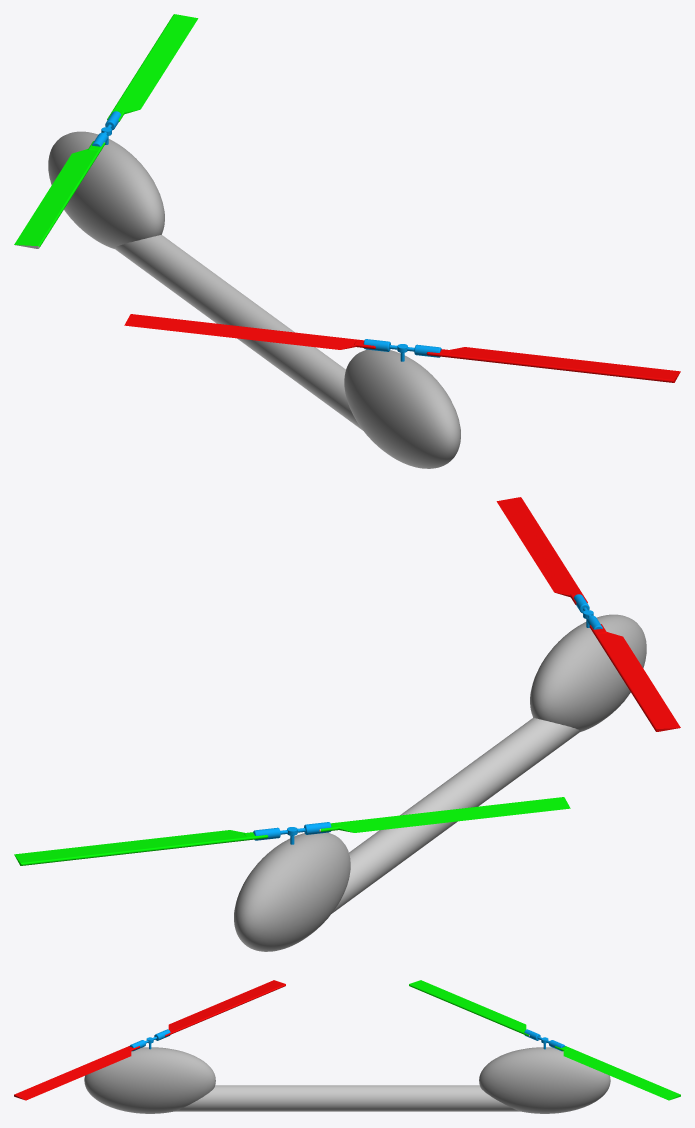
Rendered from chinook.gltf.
The picture shows the model from 3 angles, top to bottom: view 1: azimuth 30°, elevation 25°; view 2: azimuth 150°, elevation 25°; view 3: azimuth 270°, elevation 25°; orthographic projection. The views are drawn at different scales.
Parts seen in each view (by area): view 1: Rear, Boom, Front, Blade_CW_2, Blade_CW_1, Blade_CCW_2, Blade_CCW_1, Head_Rear; view 2: Front, Boom, Rear, Blade_CCW_1, Blade_CCW_2, Blade_CW_1, Blade_CW_2, Head_Front; view 3: Boom, Front, Rear, Blade_CCW_1, Blade_CW_2, Blade_CCW_2, Blade_CW_1, Head_Front, Head_Rear.
Boxes of the visible parts, bbox=[...] form: Rear: bbox=[344, 349, 460, 468]; Boom: bbox=[114, 234, 362, 430]; Front: bbox=[48, 131, 164, 248]; Blade_CW_2: bbox=[426, 347, 680, 382]; Blade_CW_1: bbox=[124, 314, 375, 349]; Blade_CCW_2: bbox=[14, 141, 105, 248]; Blade_CCW_1: bbox=[107, 14, 198, 121]; Head_Rear: bbox=[363, 339, 441, 361]; Front: bbox=[234, 832, 350, 951]; Boom: bbox=[331, 717, 580, 913]; Rear: bbox=[530, 614, 646, 731]; Blade_CCW_1: bbox=[14, 830, 268, 865]; Blade_CCW_2: bbox=[319, 797, 570, 832]; Blade_CW_1: bbox=[589, 624, 680, 731]; Blade_CW_2: bbox=[496, 497, 587, 604]; Head_Front: bbox=[253, 822, 331, 844]; Boom: bbox=[175, 1085, 519, 1111]; Front: bbox=[479, 1047, 610, 1113]; Rear: bbox=[84, 1047, 215, 1113]; Blade_CCW_1: bbox=[555, 1046, 680, 1100]; Blade_CW_2: bbox=[14, 1046, 139, 1100]; Blade_CCW_2: bbox=[409, 980, 529, 1036]; Blade_CW_1: bbox=[165, 980, 285, 1036]; Head_Front: bbox=[524, 1029, 565, 1051]; Head_Rear: bbox=[129, 1029, 170, 1051].
Bounding box in the file's own units: 4.55 × 1.32 × 10.65.
